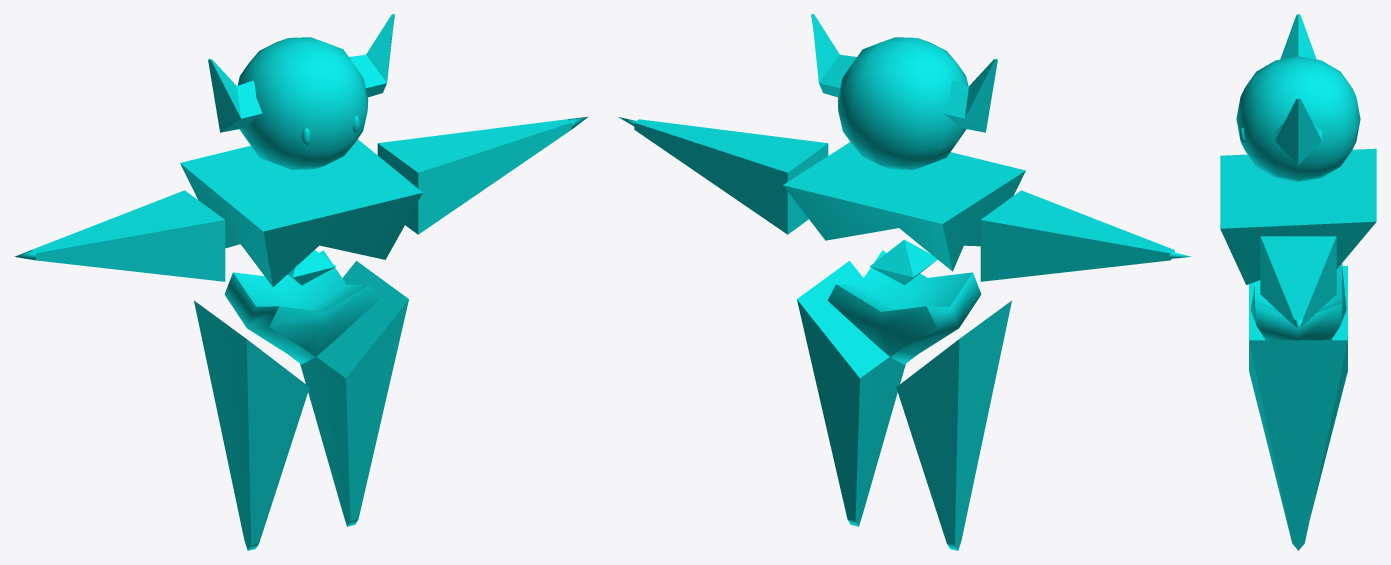
File: enemy_01.fbx
3 views of the same model, side by side, from view 1: azimuth 30°, elevation 25°; view 2: azimuth 150°, elevation 25°; view 3: azimuth 270°, elevation 25° (orthographic). The views are drawn at different scales.
Parts seen in each view (by area): view 1: pCube1, pCube5, pCube6, head1, pCube8, pCube7, pCube2, pCube10, pCube9, pCube3; view 2: pCube1, pCube5, pCube6, head1, pCube8, pCube7, pCube2, pCube10, pCube9, pCube3; view 3: pCube5, pCube1, head1, pCube7, pCube2, pCube9, pCube10, pCube6.
Part boxes in pixels (bbox=[...]): pCube1: bbox=[180, 139, 422, 286]; pCube5: bbox=[300, 261, 408, 526]; pCube6: bbox=[194, 300, 309, 550]; head1: bbox=[237, 37, 368, 169]; pCube8: bbox=[14, 190, 225, 281]; pCube7: bbox=[377, 116, 588, 234]; pCube2: bbox=[224, 250, 378, 364]; pCube10: bbox=[208, 58, 262, 132]; pCube9: bbox=[349, 14, 394, 97]; pCube3: bbox=[287, 250, 335, 285]; pCube1: bbox=[783, 142, 1025, 271]; pCube5: bbox=[797, 261, 905, 526]; pCube6: bbox=[896, 300, 1011, 550]; head1: bbox=[837, 37, 968, 169]; pCube8: bbox=[980, 190, 1191, 281]; pCube7: bbox=[618, 117, 828, 234]; pCube2: bbox=[827, 250, 981, 364]; pCube10: bbox=[943, 58, 997, 132]; pCube9: bbox=[811, 14, 856, 97]; pCube3: bbox=[870, 239, 937, 285]; pCube5: bbox=[1249, 340, 1347, 550]; pCube1: bbox=[1220, 148, 1376, 284]; head1: bbox=[1236, 56, 1360, 181]; pCube7: bbox=[1260, 236, 1336, 328]; pCube2: bbox=[1250, 263, 1346, 340]; pCube9: bbox=[1274, 98, 1322, 164]; pCube10: bbox=[1280, 14, 1316, 59]; pCube6: bbox=[1249, 266, 1347, 340].
Bounding box in the file's own units: 42.71 × 35.59 × 10.76.
